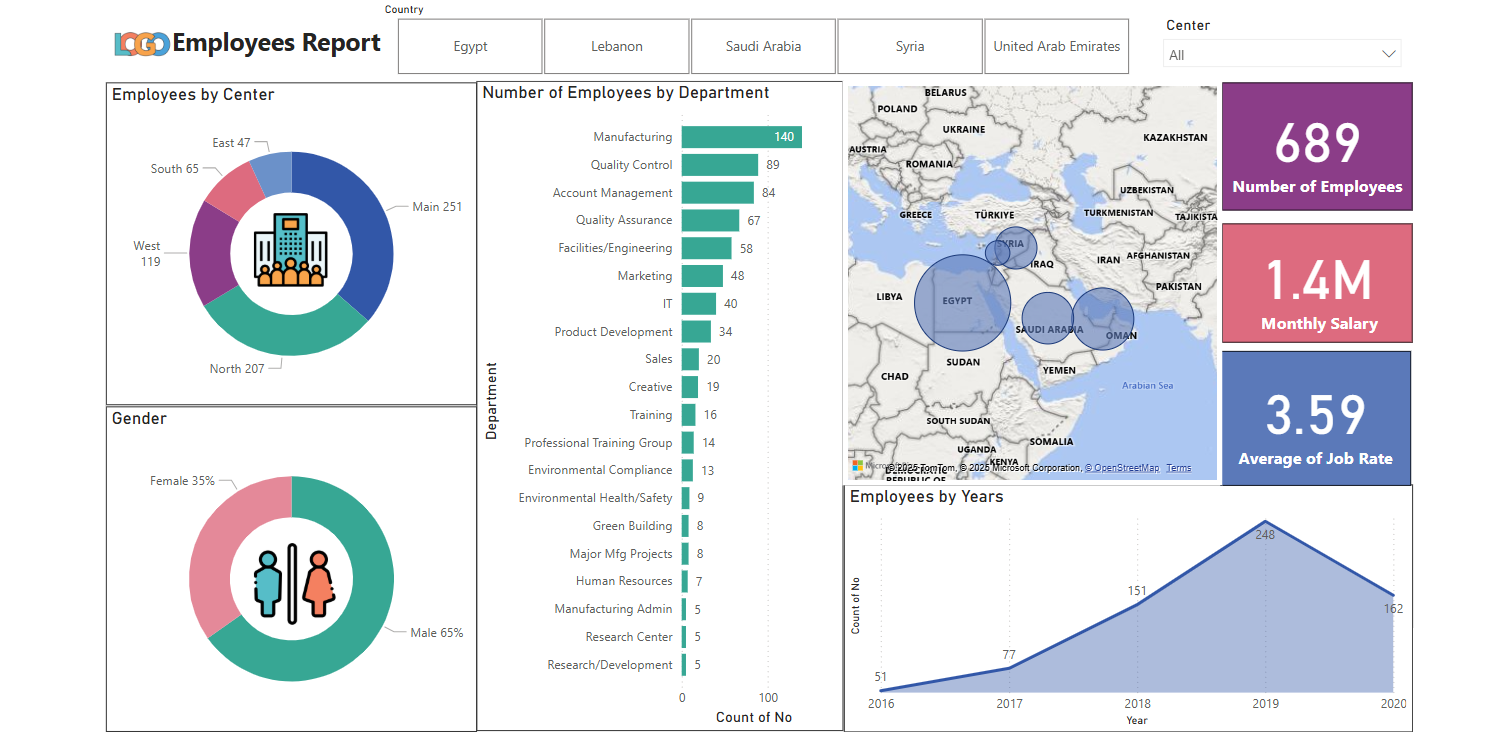

What the dashboard file says about the page in this screenshot:
{"tool":"powerbi","page":{"name":"Page 1","canvas":[1280,720],"ordinal":0},"visuals":[{"type":"clusteredBarChart","title":"Number of Employees by Department","fields":{"Category":["EmpTable.Department"],"Y":["CountNonNull(EmpTable.No)"]},"box":[363.3,81.6,359.2,636.7],"z":0},{"type":"donutChart","title":"Employees by Center","fields":{"Category":["EmpTable.Center"],"Y":["CountNonNull(EmpTable.No)"]},"box":[0,83.7,363.3,316.3],"z":1000},{"type":"donutChart","title":" Gender","fields":{"Y":["CountNonNull(EmpTable.No)"],"Category":["EmpTable.Gender"]},"box":[0,401.7,363.3,318.3],"z":2000},{"type":"areaChart","title":"Employees by Years","fields":{"Category":["EmpTable.Start Date.Variation.Date Hierarchy.Year","EmpTable.Start Date.Variation.Date Hierarchy.Quarter","EmpTable.Start Date.Variation.Date Hierarchy.Month","EmpTable.Start Date.Variation.Date Hierarchy.Day"],"Y":["CountNonNull(EmpTable.No)"]},"box":[722.4,477.6,557.1,242.9],"z":3000},{"type":"card","fields":{"Values":["Sum(EmpTable.Monthly Salary)"]},"box":[1093.3,221.7,186.7,116.7],"z":4000},{"type":"card","fields":{"Values":["Avg(EmpTable.Job Rate)"]},"box":[1091.7,346.7,186.7,131.7],"z":5000},{"type":"card","fields":{"Values":["CountNonNull(EmpTable.No)"]},"box":[1093.3,83.3,186.7,125],"z":6000},{"type":"slicer","fields":{"Values":["EmpTable.Country"]},"box":[260,0,766,82],"z":7000},{"type":"map","fields":{"Size":["Sum(EmpTable.No)"],"Category":["EmpTable.Country"]},"box":[722,82,372,396],"z":8000},{"type":"slicer","fields":{"Values":["EmpTable.Center"]},"box":[1025,13.3,253.3,55],"z":9000},{"type":"textbox","box":[50,21.7,233.3,50],"z":10000},{"type":"image","box":[0,8.3,70,75],"z":11000},{"type":"image","box":[140,515,90,121.7],"z":12000},{"type":"image","box":[140,206,82,84],"z":13000}]}

Visuals, with their boxes in screenshot pixels (x1, y1, x2, y2):
"Number of Employees by Department" clusteredBarChart: (478, 82, 839, 722)
"Employees by Center" donutChart: (113, 84, 478, 402)
" Gender" donutChart: (113, 404, 478, 723)
"Employees by Years" areaChart: (839, 480, 1398, 724)
card - Sum(EmpTable.Monthly Salary): (1211, 223, 1399, 340)
card - Avg(EmpTable.Job Rate): (1210, 348, 1397, 481)
card - CountNonNull(EmpTable.No): (1211, 84, 1399, 209)
slicer - EmpTable.Country: (374, 0, 1144, 82)
map - Sum(EmpTable.No) x EmpTable.Country: (838, 82, 1212, 480)
slicer - EmpTable.Center: (1143, 13, 1397, 69)
textbox: (163, 22, 398, 72)
image: (113, 8, 183, 84)
image: (254, 517, 344, 640)
image: (254, 207, 336, 291)
